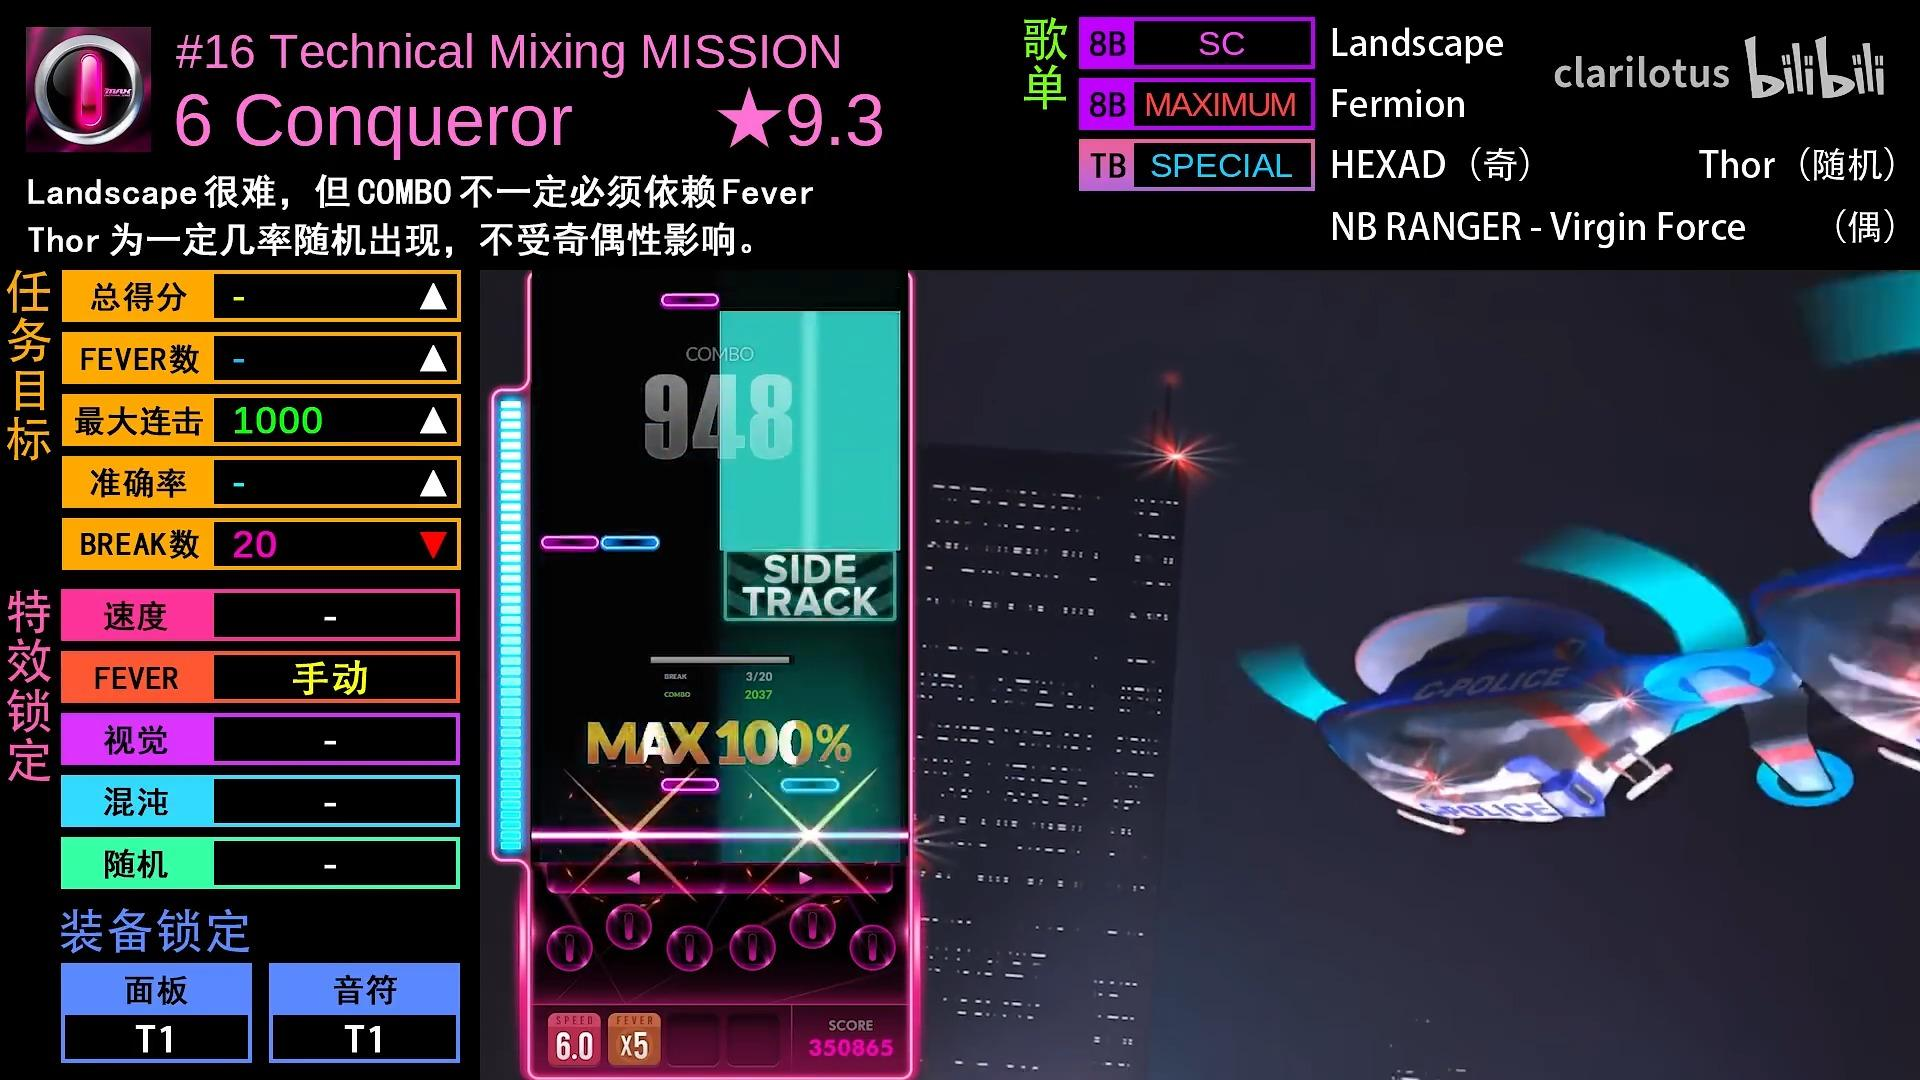hold-start: (720, 526, 901, 551)
note: (661, 775, 720, 795), (601, 533, 659, 553), (539, 534, 600, 553), (661, 291, 719, 310), (781, 778, 840, 794)
